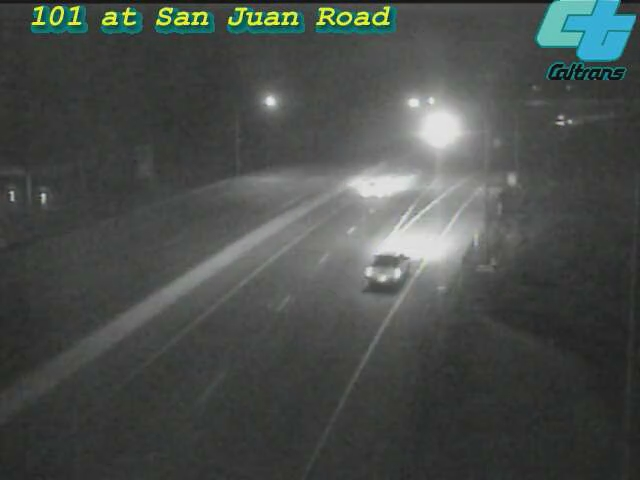vehicle: (334, 147, 414, 227), (347, 232, 427, 312), (413, 105, 463, 155), (543, 94, 593, 144)
